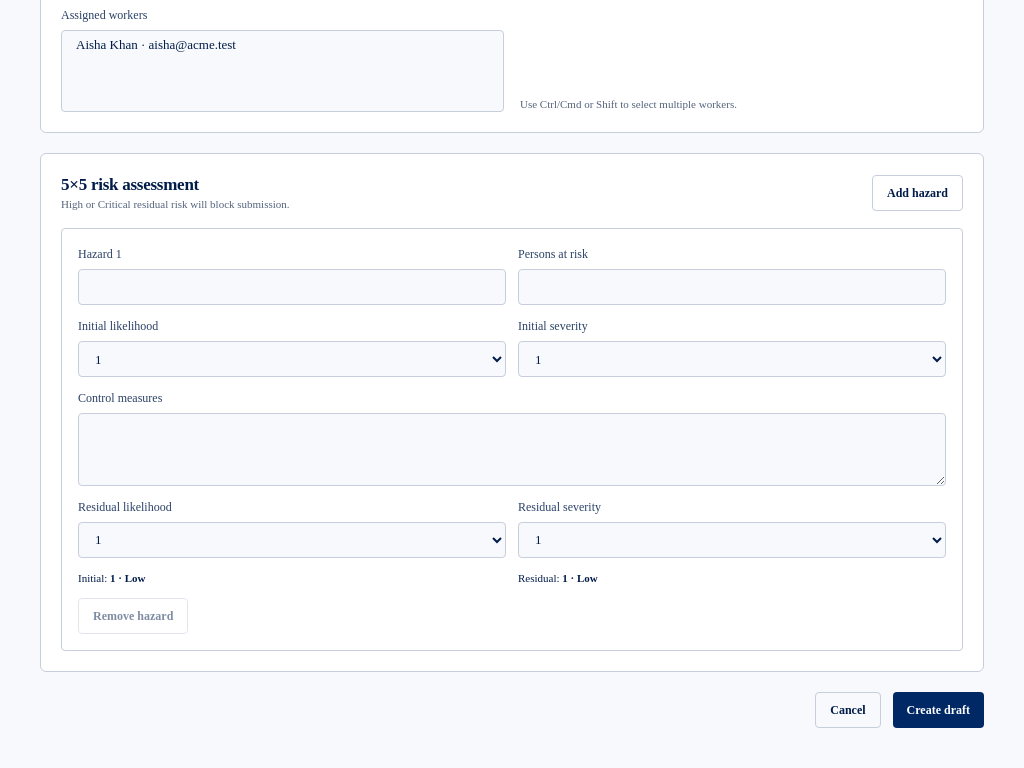
Test: permit register and draft creation › blocks a residual risk score above the initial score
This screenshot has width=1024, height=768.
(page scrolled)
Select "5" in the dropdown labelled "Residual likelihood" at (292, 540), box x1=78 y1=522 x2=506 y2=558
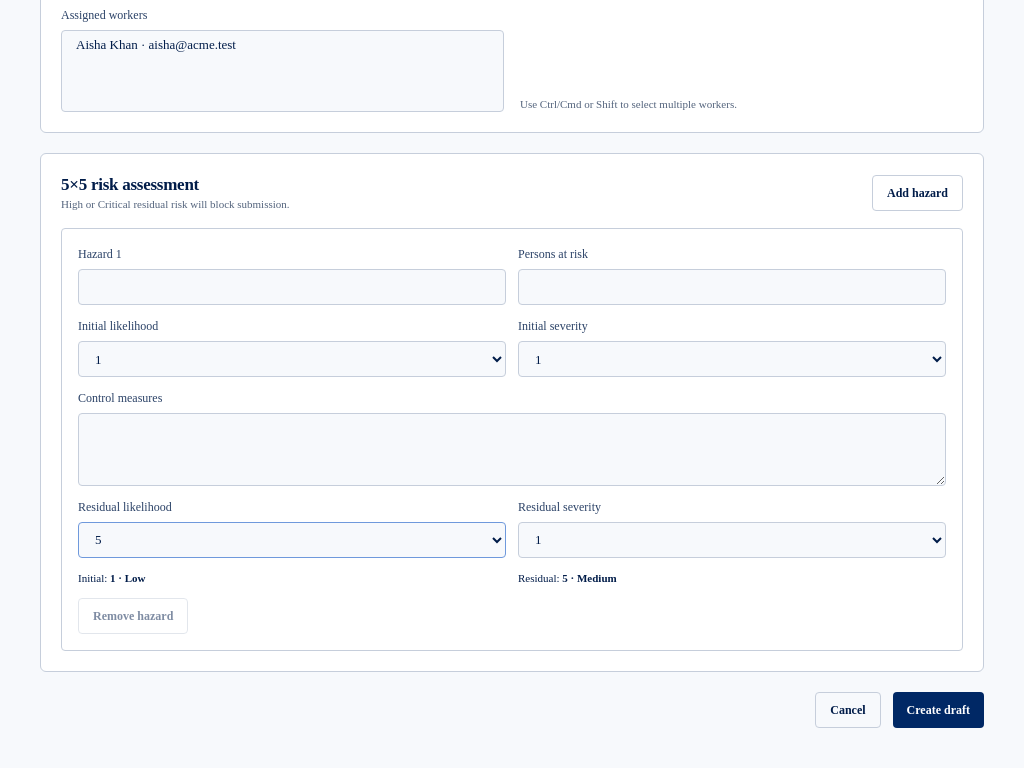
Select "5" in the dropdown labelled "Residual severity" at (732, 540), box x1=518 y1=522 x2=946 y2=558
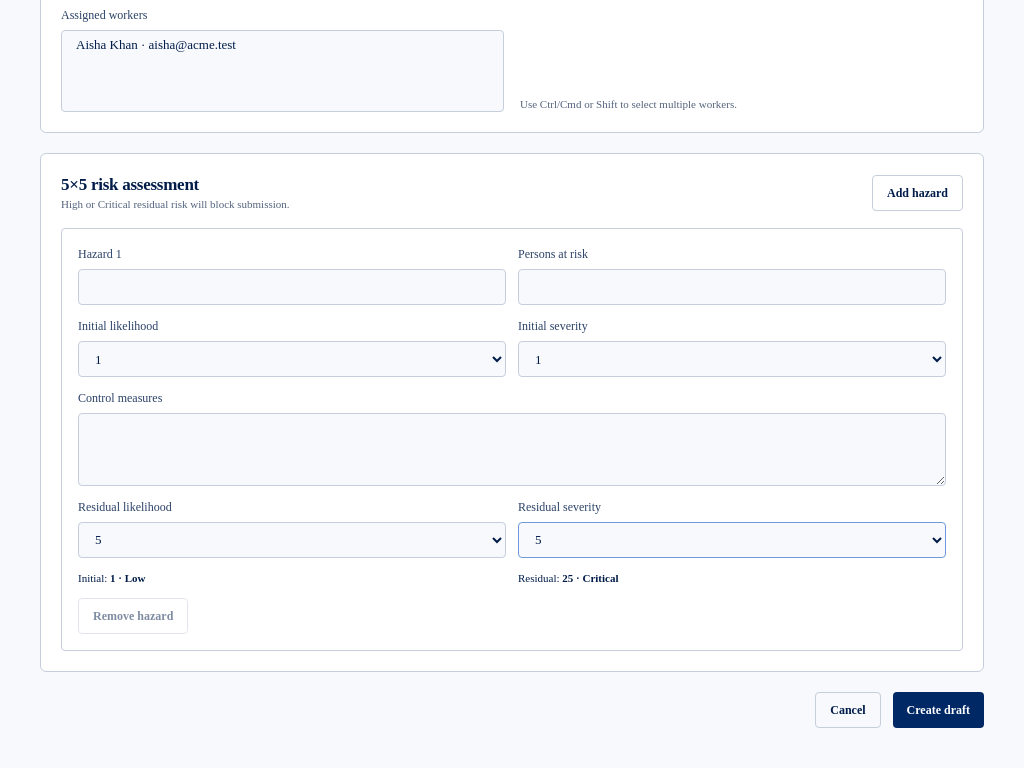
Click the button "Create draft" at (938, 710), box x1=893 y1=692 x2=984 y2=728
(page scrolled)
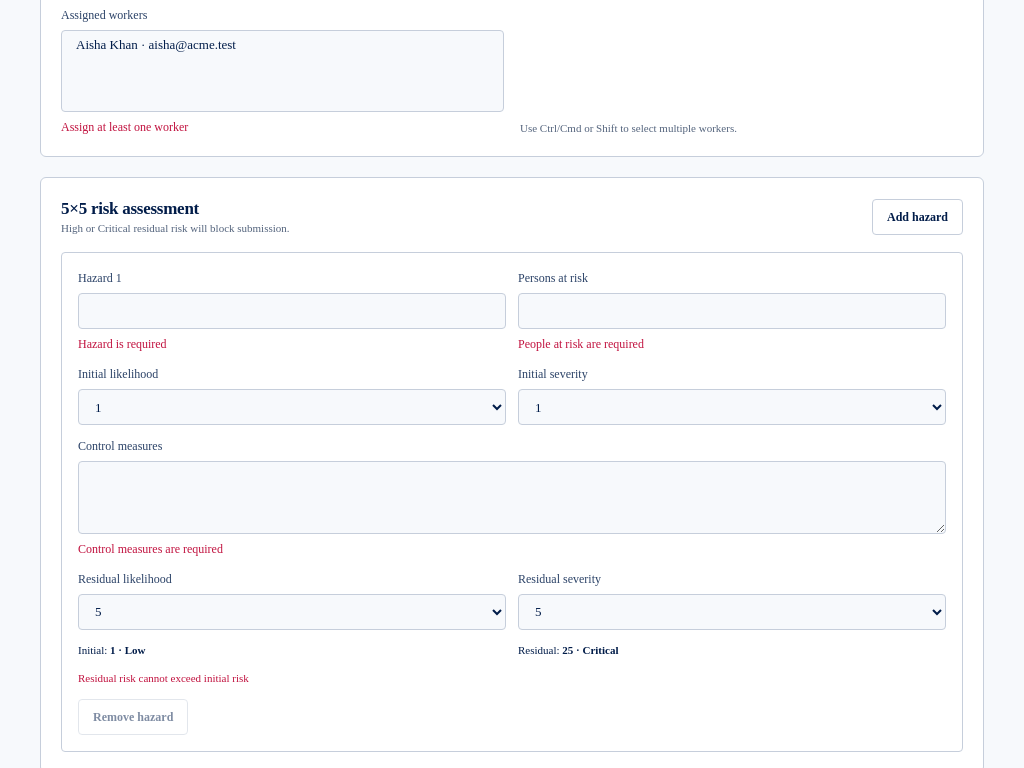
Expected: the text "Residual risk cannot exceed initial risk" is shown, x1=78 y1=672 x2=249 y2=684
